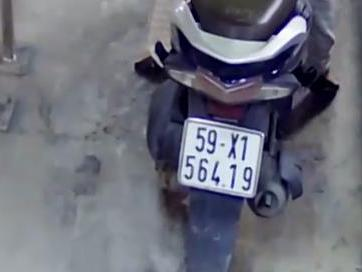num_plate: (177, 115, 267, 201)
